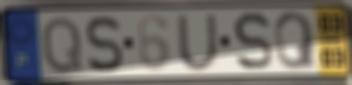6: (136, 12, 174, 74)
Q: (272, 10, 319, 72), (40, 14, 85, 77)
S: (231, 10, 275, 73), (84, 14, 125, 75)
U: (175, 12, 222, 73)
